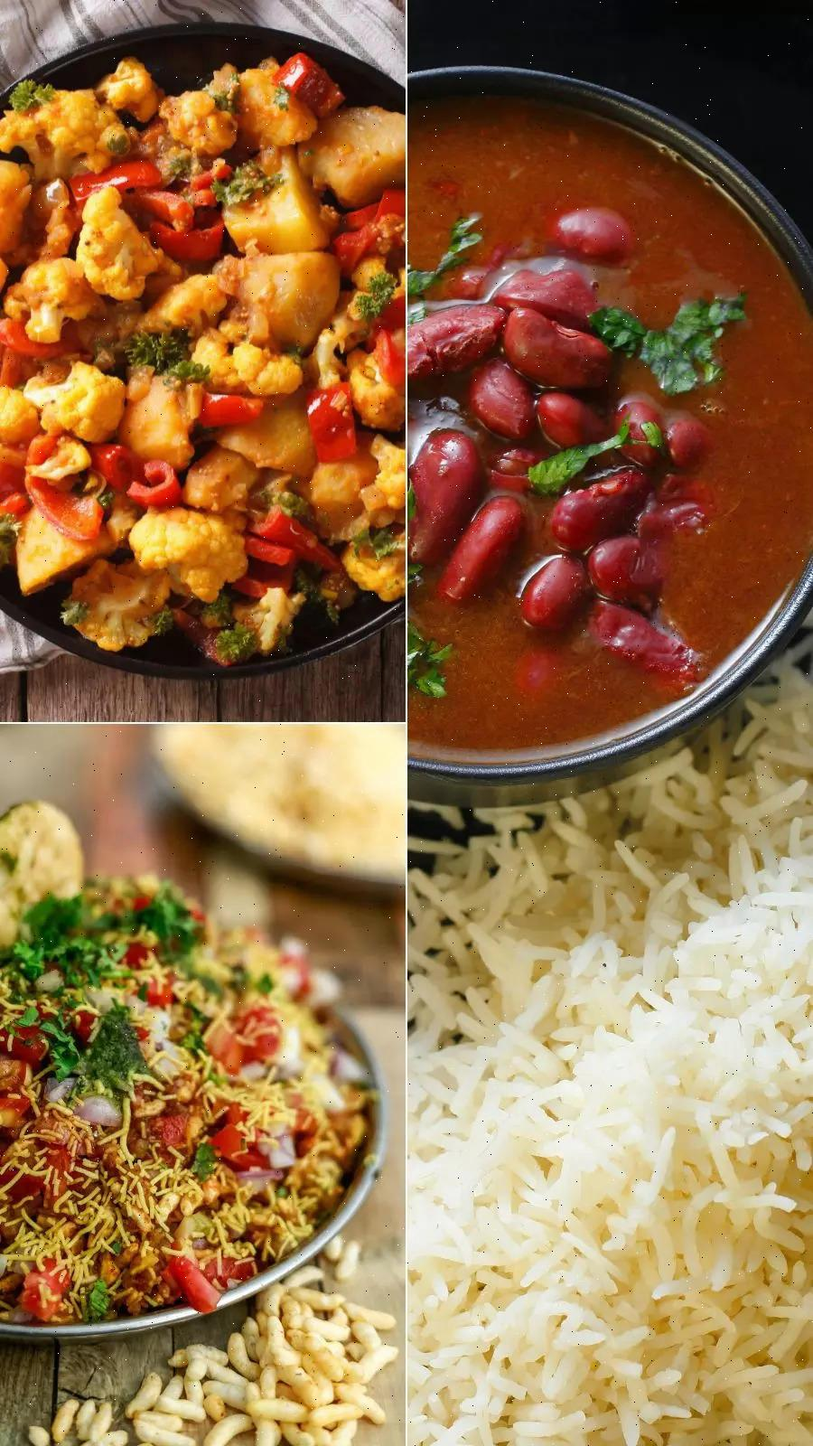rajma: (429, 36, 777, 741)
rice: (411, 795, 813, 1446)
